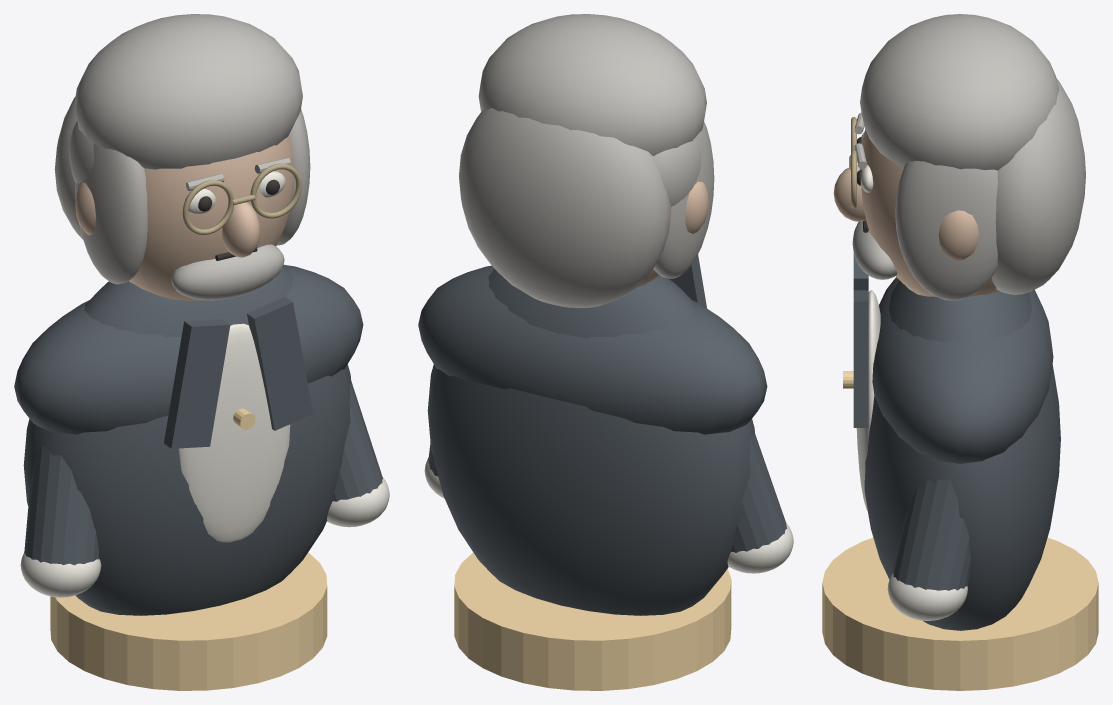
The model's file is value.glb.
3 views of the same model, side by side, from view 1: azimuth 30°, elevation 25°; view 2: azimuth 150°, elevation 25°; view 3: azimuth 270°, elevation 25° (orthographic).
Visible parts, largest first — view 1: Jacket torso, Hair cap, Bust plinth, Shoulder line, Shirt front, Head, Hair side lock.001, Arm.001, Jacket lapel, Jacket lapel.001, Short beard, Arm (+9 smaller); view 2: Jacket torso, Rear hair, Shoulder line, Hair cap, Bust plinth, Arm.001, Hair side lock.001, Silver sideburn, Cuff.001, Ear.001, Jacket lapel; view 3: Jacket torso, Bust plinth, Hair cap, Shoulder line, Rear hair, Hair side lock, Arm, Head, Cuff, Jacket lapel.001, Shirt front, Ear (+2 smaller).
Part boxes in pixels (x1,y1,x2,y2): Jacket torso: [23, 266, 351, 615]; Hair cap: [74, 14, 302, 169]; Bust plinth: [50, 552, 327, 690]; Shoulder line: [14, 265, 363, 434]; Shirt front: [178, 323, 290, 542]; Head: [129, 134, 293, 300]; Hair side lock.001: [75, 143, 147, 284]; Arm.001: [24, 445, 98, 565]; Jacket lapel: [164, 319, 230, 448]; Jacket lapel.001: [247, 296, 313, 430]; Short beard: [171, 244, 284, 300]; Arm: [333, 381, 382, 501]; Jacket torso: [427, 269, 755, 615]; Rear hair: [459, 108, 671, 307]; Shoulder line: [418, 265, 767, 434]; Hair cap: [478, 14, 706, 155]; Bust plinth: [454, 552, 731, 690]; Arm.001: [731, 434, 787, 552]; Hair side lock.001: [653, 121, 714, 278]; Silver sideburn: [653, 138, 701, 206]; Cuff.001: [727, 523, 793, 573]; Ear.001: [685, 181, 708, 233]; Jacket lapel: [668, 255, 706, 308]; Jacket torso: [864, 280, 1060, 630]; Bust plinth: [822, 538, 1098, 690]; Hair cap: [860, 14, 1059, 170]; Shoulder line: [872, 277, 1053, 463]; Rear hair: [992, 78, 1085, 294]; Hair side lock: [895, 161, 997, 300]; Arm: [893, 479, 970, 590]; Head: [860, 129, 999, 296]; Cuff: [887, 573, 967, 620]; Jacket lapel.001: [853, 290, 868, 427]; Shirt front: [856, 290, 880, 511]; Ear: [938, 210, 979, 260].
Size of the model in its own units: 1.64 by 2.65 by 1.1.
